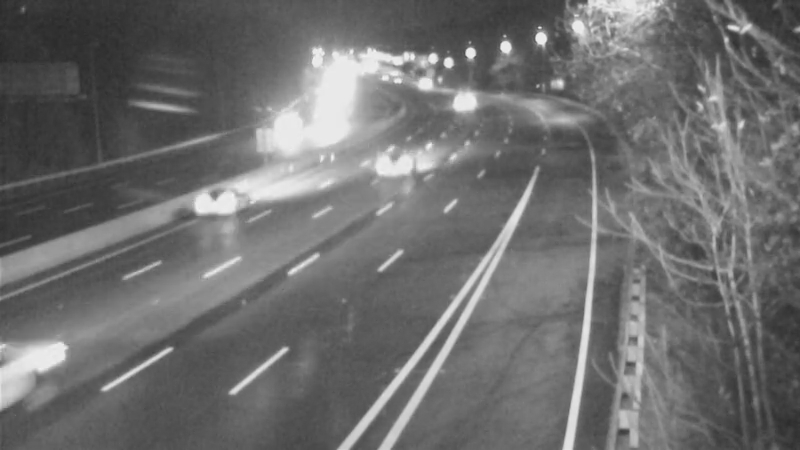vehicle: (1, 322, 95, 432), (359, 123, 439, 203), (184, 156, 264, 236), (440, 70, 490, 120), (266, 115, 316, 165), (299, 105, 349, 155)
